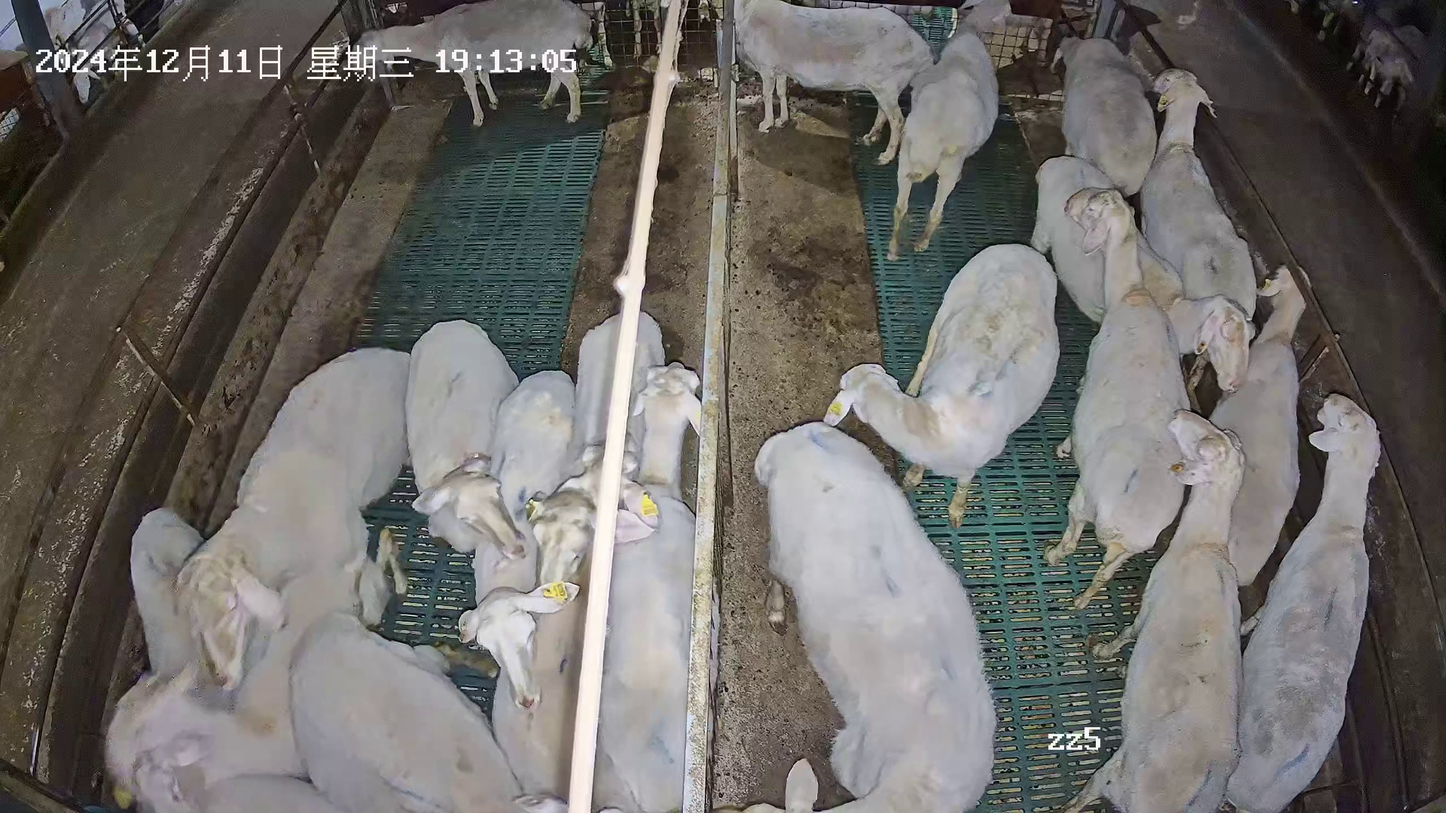Smounting: (96, 344, 412, 786)
mounted: (100, 523, 406, 783)
